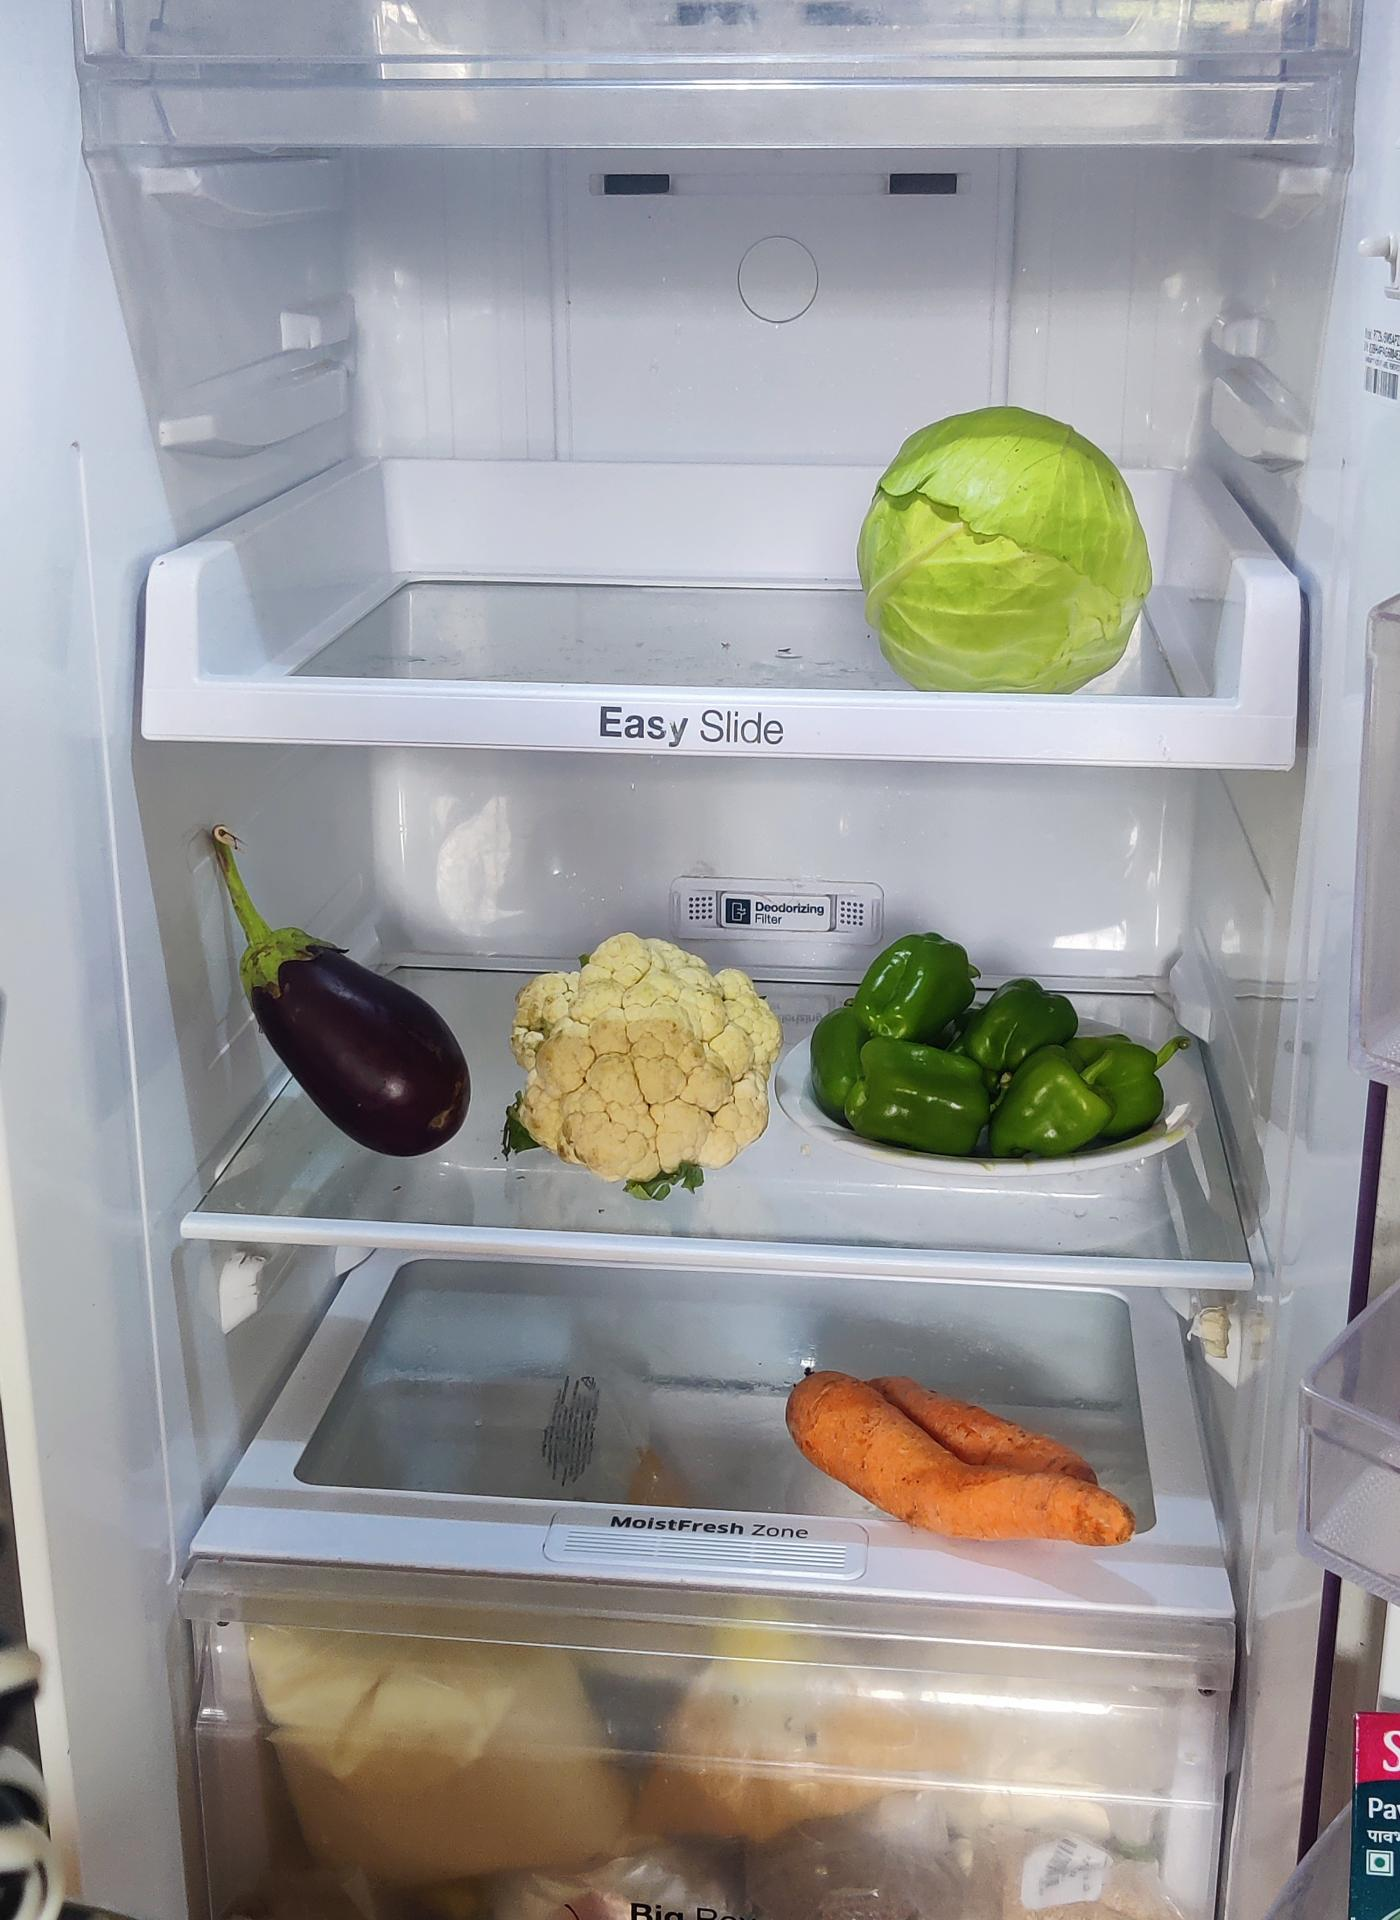brinjal: (225, 871, 461, 1154)
cabbage: (856, 408, 1150, 698)
capsicum: (808, 924, 1185, 1157)
carrots: (781, 1367, 1144, 1552)
cauliflower: (511, 933, 781, 1181)
